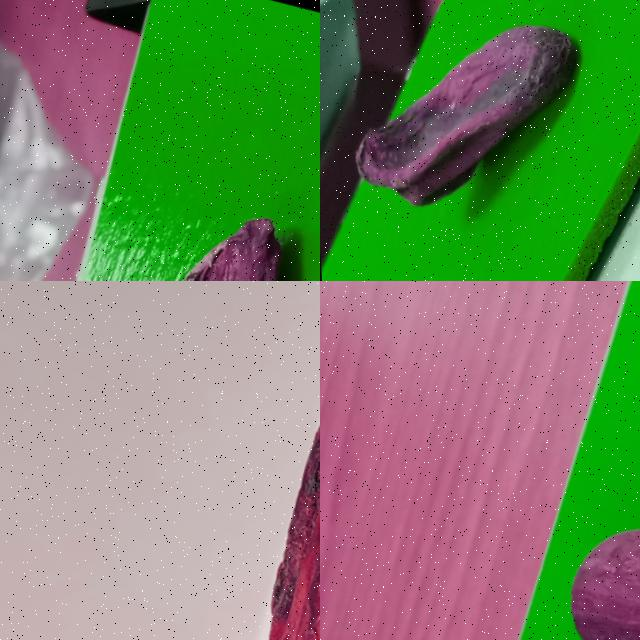Fine_cocoabeans: (185, 314, 319, 639), (491, 418, 639, 639)
Flat_cocoabeans: (320, 0, 611, 280), (17, 165, 319, 280)
